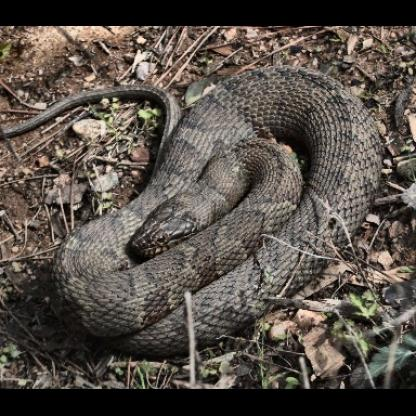Snake: (15, 74, 405, 354)
